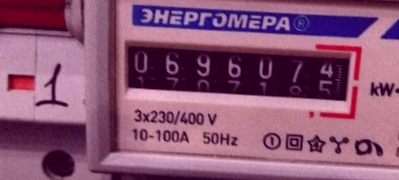0: (129, 46, 149, 72), (255, 52, 273, 79)
4: (317, 55, 333, 77)
5: (316, 77, 331, 97)
6: (160, 47, 180, 73), (224, 50, 242, 78)
7: (286, 55, 303, 82)
9: (192, 50, 211, 77)
screen: (113, 25, 364, 119)
